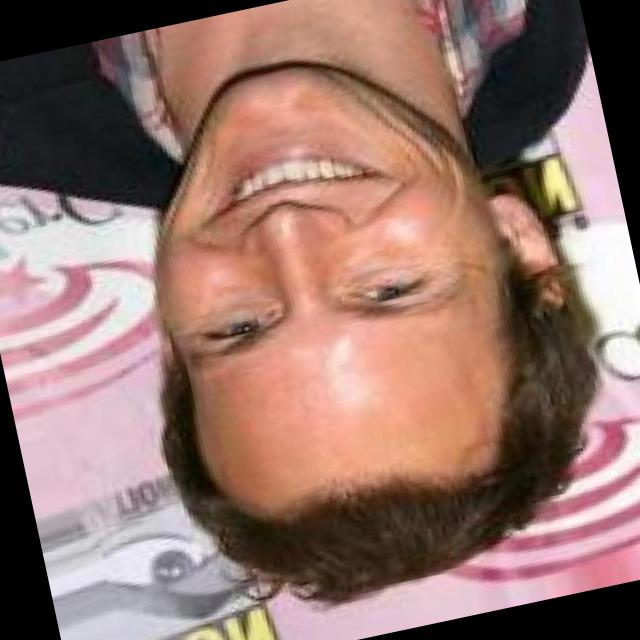bareface: (103, 38, 543, 562)
